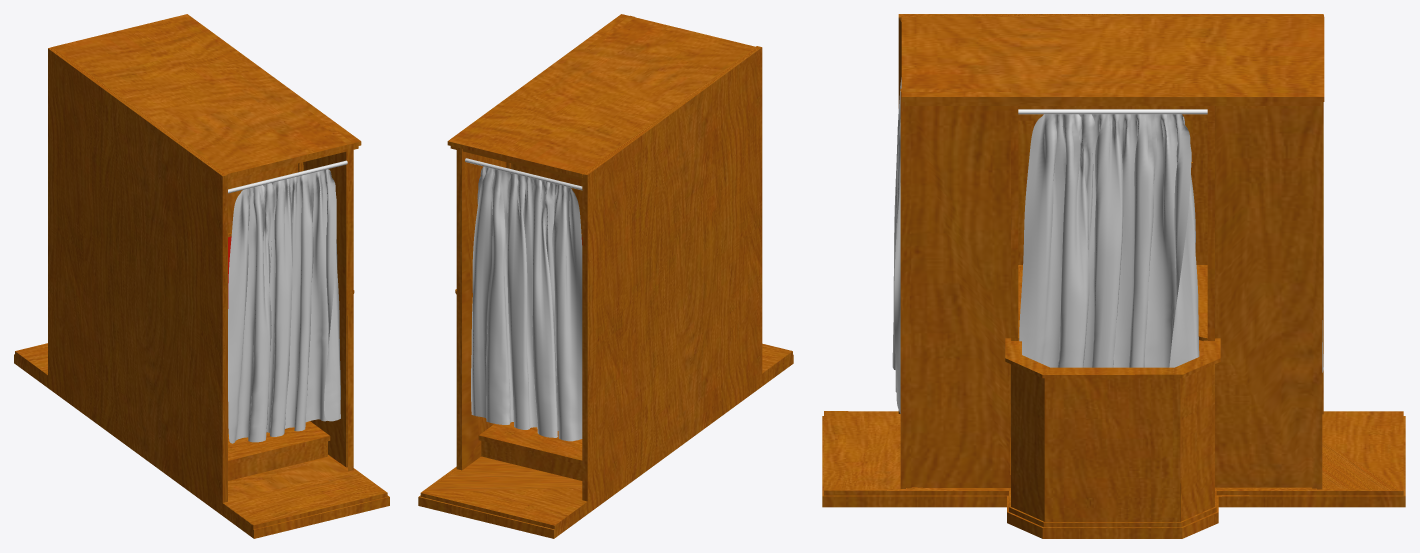
Rendered from confession.fbx.
3 views of the same model, side by side, from view 1: azimuth 30°, elevation 25°; view 2: azimuth 150°, elevation 25°; view 3: azimuth 270°, elevation 25° (orthographic). The views are drawn at different scales.
Visible parts, largest first — view 1: instance_0, leftCurtain, instance_0.006, leftCurtainHolder; view 2: instance_0, rightCurtain, instance_0.005, rightCurtainHolder; view 3: instance_0, frontCurtain, instance_0.046, leftCurtain, frontCurtainHolder.
Boxes of the visible parts, x1=… form: instance_0: x1=14, y1=14, x2=389, y2=538; leftCurtain: x1=228, y1=169, x2=340, y2=443; instance_0.006: x1=228, y1=163, x2=299, y2=233; leftCurtainHolder: x1=228, y1=160, x2=347, y2=193; instance_0: x1=418, y1=14, x2=793, y2=538; rightCurtain: x1=471, y1=166, x2=582, y2=441; instance_0.005: x1=509, y1=163, x2=582, y2=233; rightCurtainHolder: x1=465, y1=158, x2=582, y2=190; instance_0: x1=822, y1=14, x2=1405, y2=538; frontCurtain: x1=1019, y1=114, x2=1199, y2=367; instance_0.046: x1=1042, y1=367, x2=1182, y2=521; leftCurtain: x1=892, y1=77, x2=901, y2=413; frontCurtainHolder: x1=1018, y1=109, x2=1207, y2=114.
Bounding box in the file's own units: 309 × 527 × 674.
Materials: 3 (1 with a texture image).
